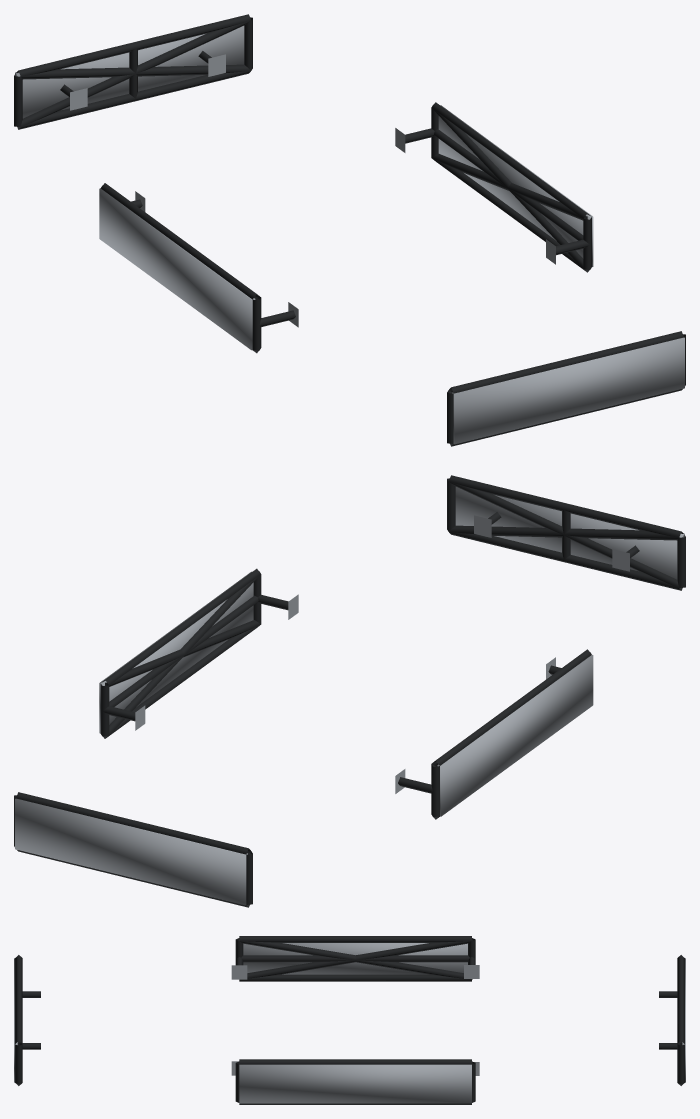
File: tridella_tavola_protecao.glb
3 renders of one model, top to bottom at view 1: azimuth 30°, elevation 25°; view 2: azimuth 150°, elevation 25°; view 3: azimuth 270°, elevation 25°, orthographic. The views are drawn at different scales.
Visible parts, largest first — view 1: Protection_front_Level3_Details, Protection_left_Level3_Details, Protection_rear_Level1_Details, Protection_rear_Level3_Details, Protection_right_Level1_Details, Protection_rear_Level2_Details, Protection_right_Level2_Details, Protection_right_Level3_Details, Protection_front_Level1_Details, Protection_left_Level1_Details; view 2: Protection_rear_Level3_Details, Protection_left_Level3_Details, Protection_front_Level1_Details, Protection_front_Level3_Details, Protection_right_Level1_Details, Protection_front_Level2_Details, Protection_right_Level2_Details, Protection_right_Level3_Details, Protection_rear_Level1_Details, Protection_left_Level1_Details; view 3: Protection_right_Level3_Details, Protection_left_Level2_Details, Protection_left_Level1_Details, Protection_left_Level3_Details, Protection_right_Level1_Details, Protection_rear_Level1_Details, Protection_front_Level1_Details.
Boxes of the visible parts, left/top/right/bottom form: Protection_front_Level3_Details: left=452, top=337, right=684, bottom=444; Protection_left_Level3_Details: left=99, top=188, right=255, bottom=350; Protection_rear_Level1_Details: left=14, top=14, right=252, bottom=129; Protection_rear_Level3_Details: left=15, top=26, right=244, bottom=118; Protection_right_Level1_Details: left=395, top=102, right=591, bottom=272; Protection_rear_Level2_Details: left=16, top=20, right=250, bottom=128; Protection_right_Level2_Details: left=432, top=108, right=590, bottom=271; Protection_right_Level3_Details: left=438, top=105, right=593, bottom=266; Protection_front_Level1_Details: left=447, top=331, right=685, bottom=446; Protection_left_Level1_Details: left=100, top=183, right=298, bottom=353; Protection_rear_Level3_Details: left=15, top=798, right=247, bottom=905; Protection_left_Level3_Details: left=437, top=655, right=593, bottom=816; Protection_front_Level1_Details: left=447, top=475, right=685, bottom=590; Protection_front_Level3_Details: left=455, top=487, right=684, bottom=579; Protection_right_Level1_Details: left=100, top=568, right=298, bottom=738; Protection_front_Level2_Details: left=449, top=481, right=683, bottom=589; Protection_right_Level2_Details: left=101, top=574, right=260, bottom=738; Protection_right_Level3_Details: left=99, top=571, right=253, bottom=733; Protection_rear_Level1_Details: left=14, top=792, right=252, bottom=907; Protection_left_Level1_Details: left=395, top=649, right=591, bottom=819; Protection_right_Level3_Details: left=239, top=1064, right=471, bottom=1103; Protection_left_Level2_Details: left=239, top=939, right=472, bottom=979; Protection_left_Level1_Details: left=231, top=936, right=479, bottom=981; Protection_left_Level3_Details: left=243, top=943, right=467, bottom=974; Protection_right_Level1_Details: left=231, top=1059, right=479, bottom=1104; Protection_rear_Level1_Details: left=659, top=955, right=684, bottom=1085; Protection_front_Level1_Details: left=15, top=955, right=40, bottom=1085.
Bounding box in the file's own units: 2.13 × 0.354 × 4.74.
1 material, 1 textured.
